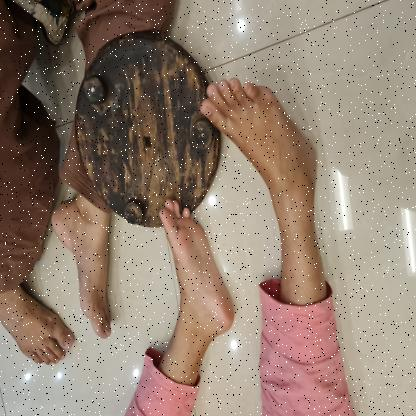leg: (199, 75, 334, 305), (152, 189, 241, 381), (45, 192, 129, 342), (0, 281, 77, 371)
